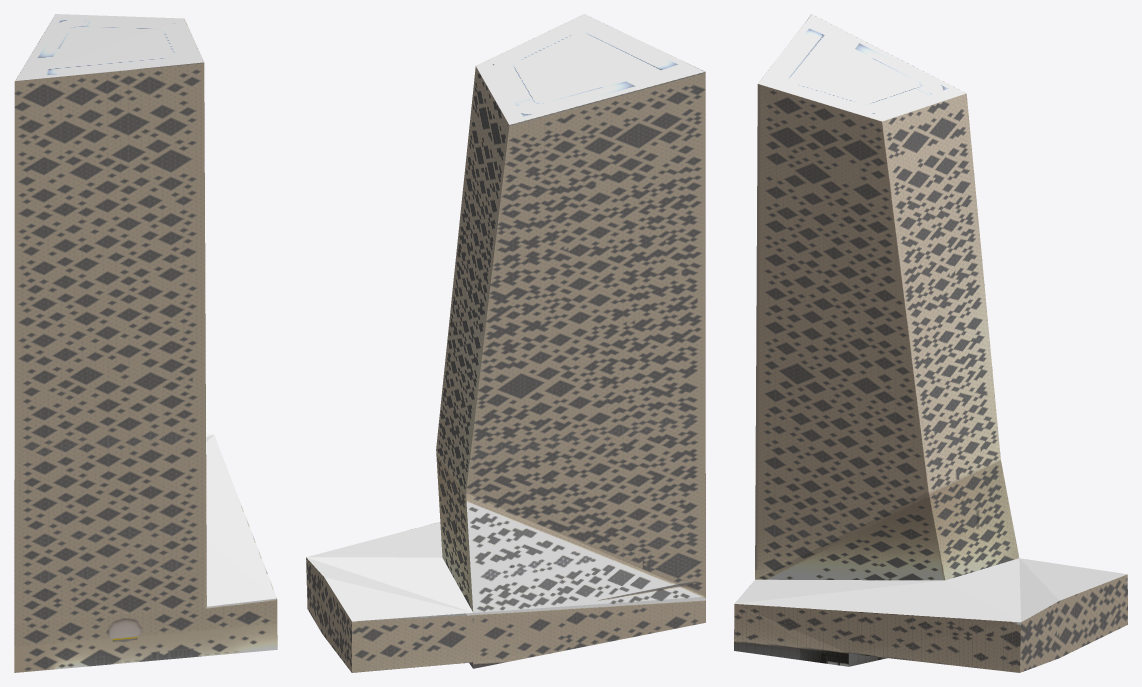
File: 110_neww.glb
3 renders of one model, left to right at view 1: azimuth 30°, elevation 25°; view 2: azimuth 150°, elevation 25°; view 3: azimuth 270°, elevation 25°, orthographic. The views are drawn at different scales.
Visible parts, largest first — view 1: 110A.001; view 2: 110A.001; view 3: 110A.001.
Boxes of the visible parts, x1,y1,x2,y2 form: 110A.001: (14, 14, 277, 672); 110A.001: (306, 14, 705, 672); 110A.001: (734, 14, 1127, 672).
Bounding box in the file's own units: 76.44 × 138 × 90.89.
Materials: 1 (1 with a texture image).
